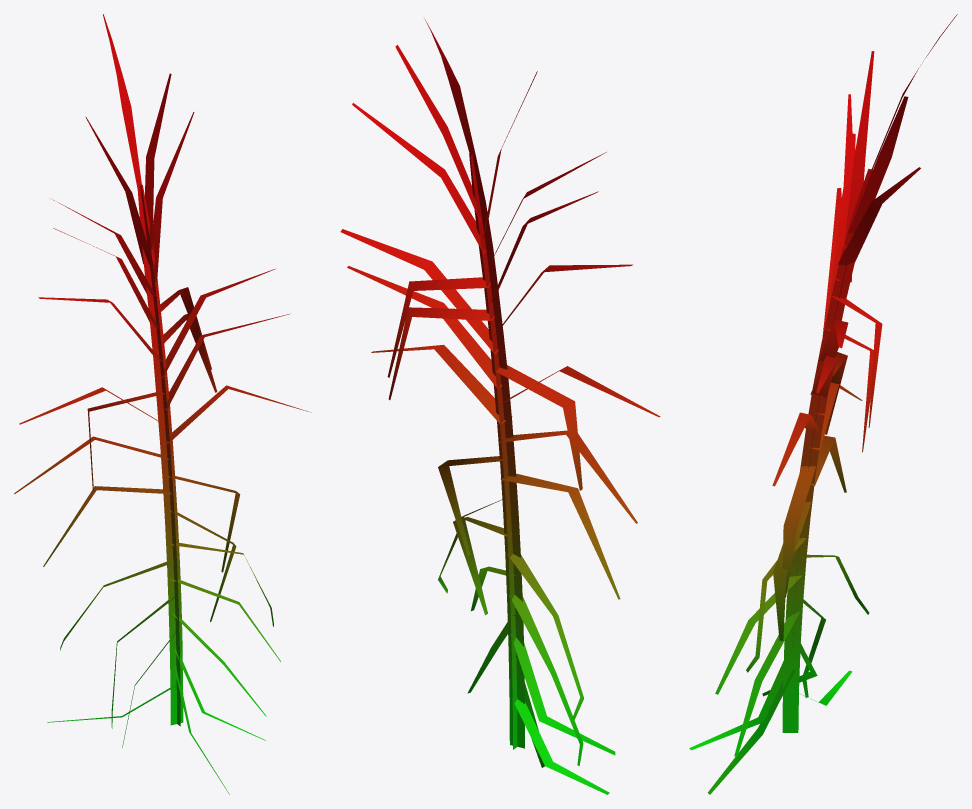
File: Giant Reed_LOD2_Var5_sjllX.fbx
The picture shows the model from 3 angles, left to right: view 1: azimuth 30°, elevation 25°; view 2: azimuth 150°, elevation 25°; view 3: azimuth 270°, elevation 25°; orthographic projection. The views are drawn at different scales.
Visible parts, largest first — view 1: _48fc_Var5_LOD002; view 2: _48fc_Var5_LOD002; view 3: _48fc_Var5_LOD002.
Boxes of the visible parts, box(x1,y1,x2,y2) form: _48fc_Var5_LOD002: box(14, 14, 311, 794); _48fc_Var5_LOD002: box(340, 19, 660, 794); _48fc_Var5_LOD002: box(689, 14, 957, 794).
Bounding box in the file's own units: 93.4 × 237 × 74.72.
